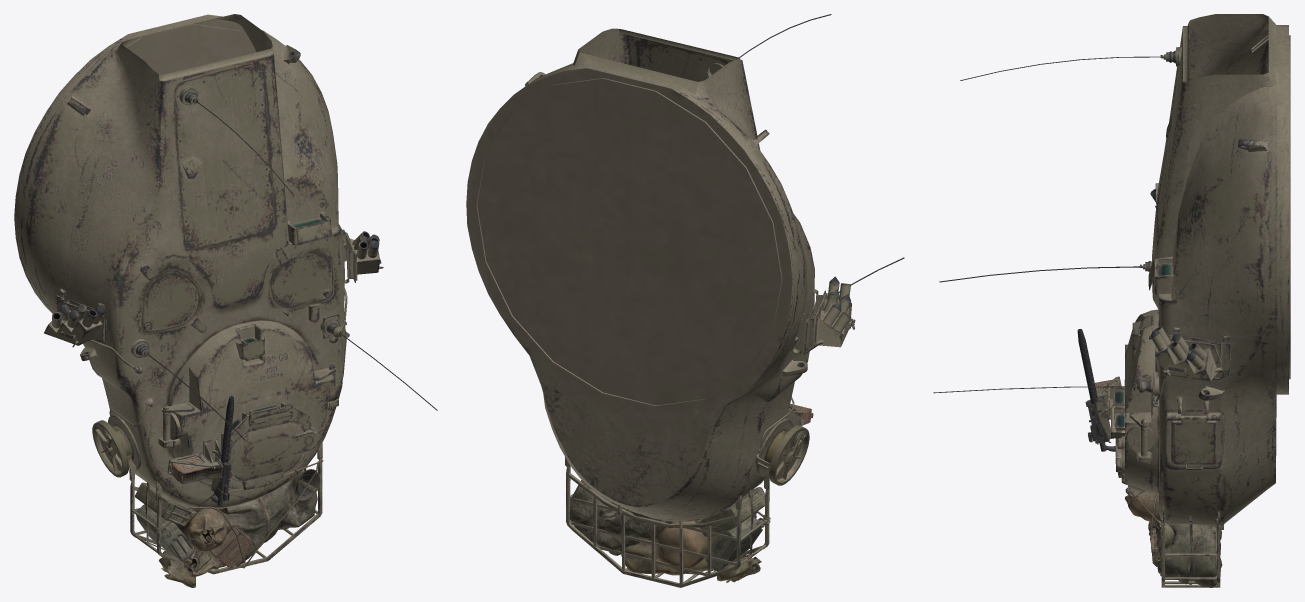
Rendered from Turret_01.glb.
3 renders of one model, left to right at view 1: azimuth 30°, elevation 25°; view 2: azimuth 150°, elevation 25°; view 3: azimuth 270°, elevation 25°, orthographic. The views are drawn at different scales.
Visible parts, largest first — view 1: set_0_group_0; view 2: set_0_group_0; view 3: set_0_group_0.
Boxes of the visible parts, x1,y1,x2,y2 form: set_0_group_0: (14,14,437,587); set_0_group_0: (466,14,904,587); set_0_group_0: (933,14,1290,587).
Size of the model in its own units: 2.93 by 4.4 by 2.67.
1 material, 1 textured.
